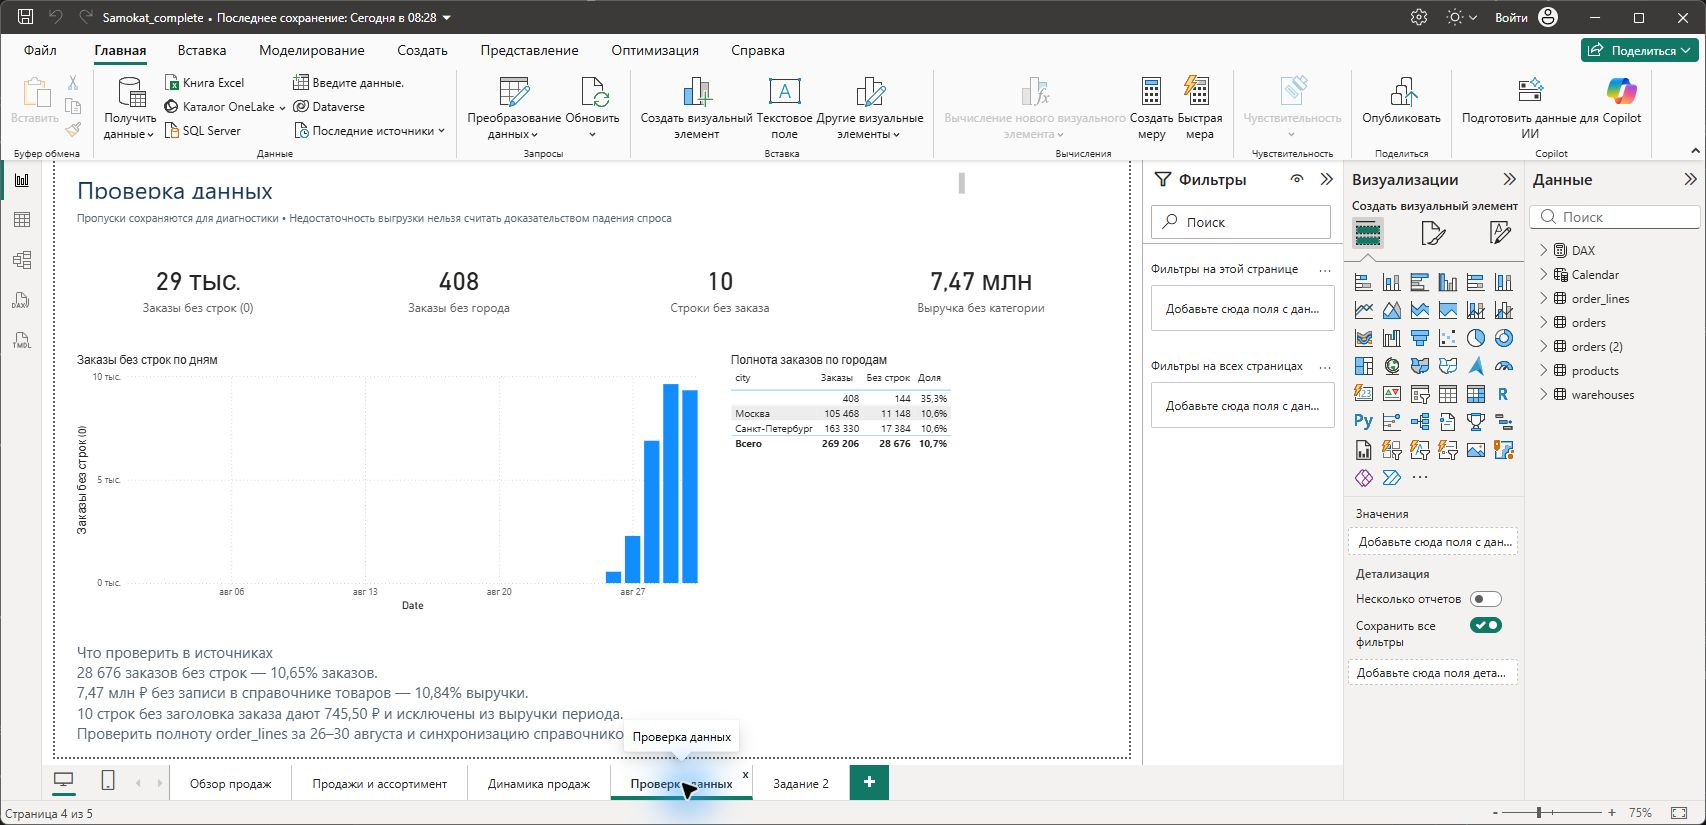

Layout of this report page (visuals, bound fields, positions):
{"tool":"powerbi","page":{"name":"Проверка данных","canvas":[1440,800],"ordinal":3},"visuals":[{"type":"textbox","box":[24,12,1200,45],"z":0},{"type":"textbox","box":[24,61,1380,40],"z":1000},{"type":"card","fields":{"Values":["DAX.Заказы без строк (0)"]},"box":[24,115,335,110],"z":2000},{"type":"card","fields":{"Values":["DAX.Заказы без города"]},"box":[374,115,335,110],"z":3000},{"type":"card","fields":{"Values":["DAX.Строки без заказа"]},"box":[724,115,335,110],"z":4000},{"type":"card","fields":{"Values":["DAX.Выручка без категории"]},"box":[1074,115,335,110],"z":5000},{"type":"clusteredColumnChart","title":"Заказы без строк по дням","fields":{"Category":["Calendar.Date"],"Y":["DAX.Заказы без строк (0)"]},"box":[24,260,850,350],"z":6000},{"type":"tableEx","title":"Полнота заказов по городам","fields":{"Values":["warehouses.city","DAX.Заказы","DAX.Без строк","DAX.Доля"]},"box":[900,260,514,350],"z":7000},{"type":"textbox","box":[24,640,1380,145],"z":8000}]}

Visuals, with their boxes on the page's 1440x800 design canvas (x1, y1, x2, y2). These are canvas units, not pixel positions in the 1706x825 screenshot, which may show the page scaled, cropped or inside an application window:
textbox: l=24, t=12, r=1224, b=57
textbox: l=24, t=61, r=1404, b=101
card - DAX.Заказы без строк (0): l=24, t=115, r=359, b=225
card - DAX.Заказы без города: l=374, t=115, r=709, b=225
card - DAX.Строки без заказа: l=724, t=115, r=1059, b=225
card - DAX.Выручка без категории: l=1074, t=115, r=1409, b=225
"Заказы без строк по дням" clusteredColumnChart: l=24, t=260, r=874, b=610
"Полнота заказов по городам" tableEx: l=900, t=260, r=1414, b=610
textbox: l=24, t=640, r=1404, b=785
